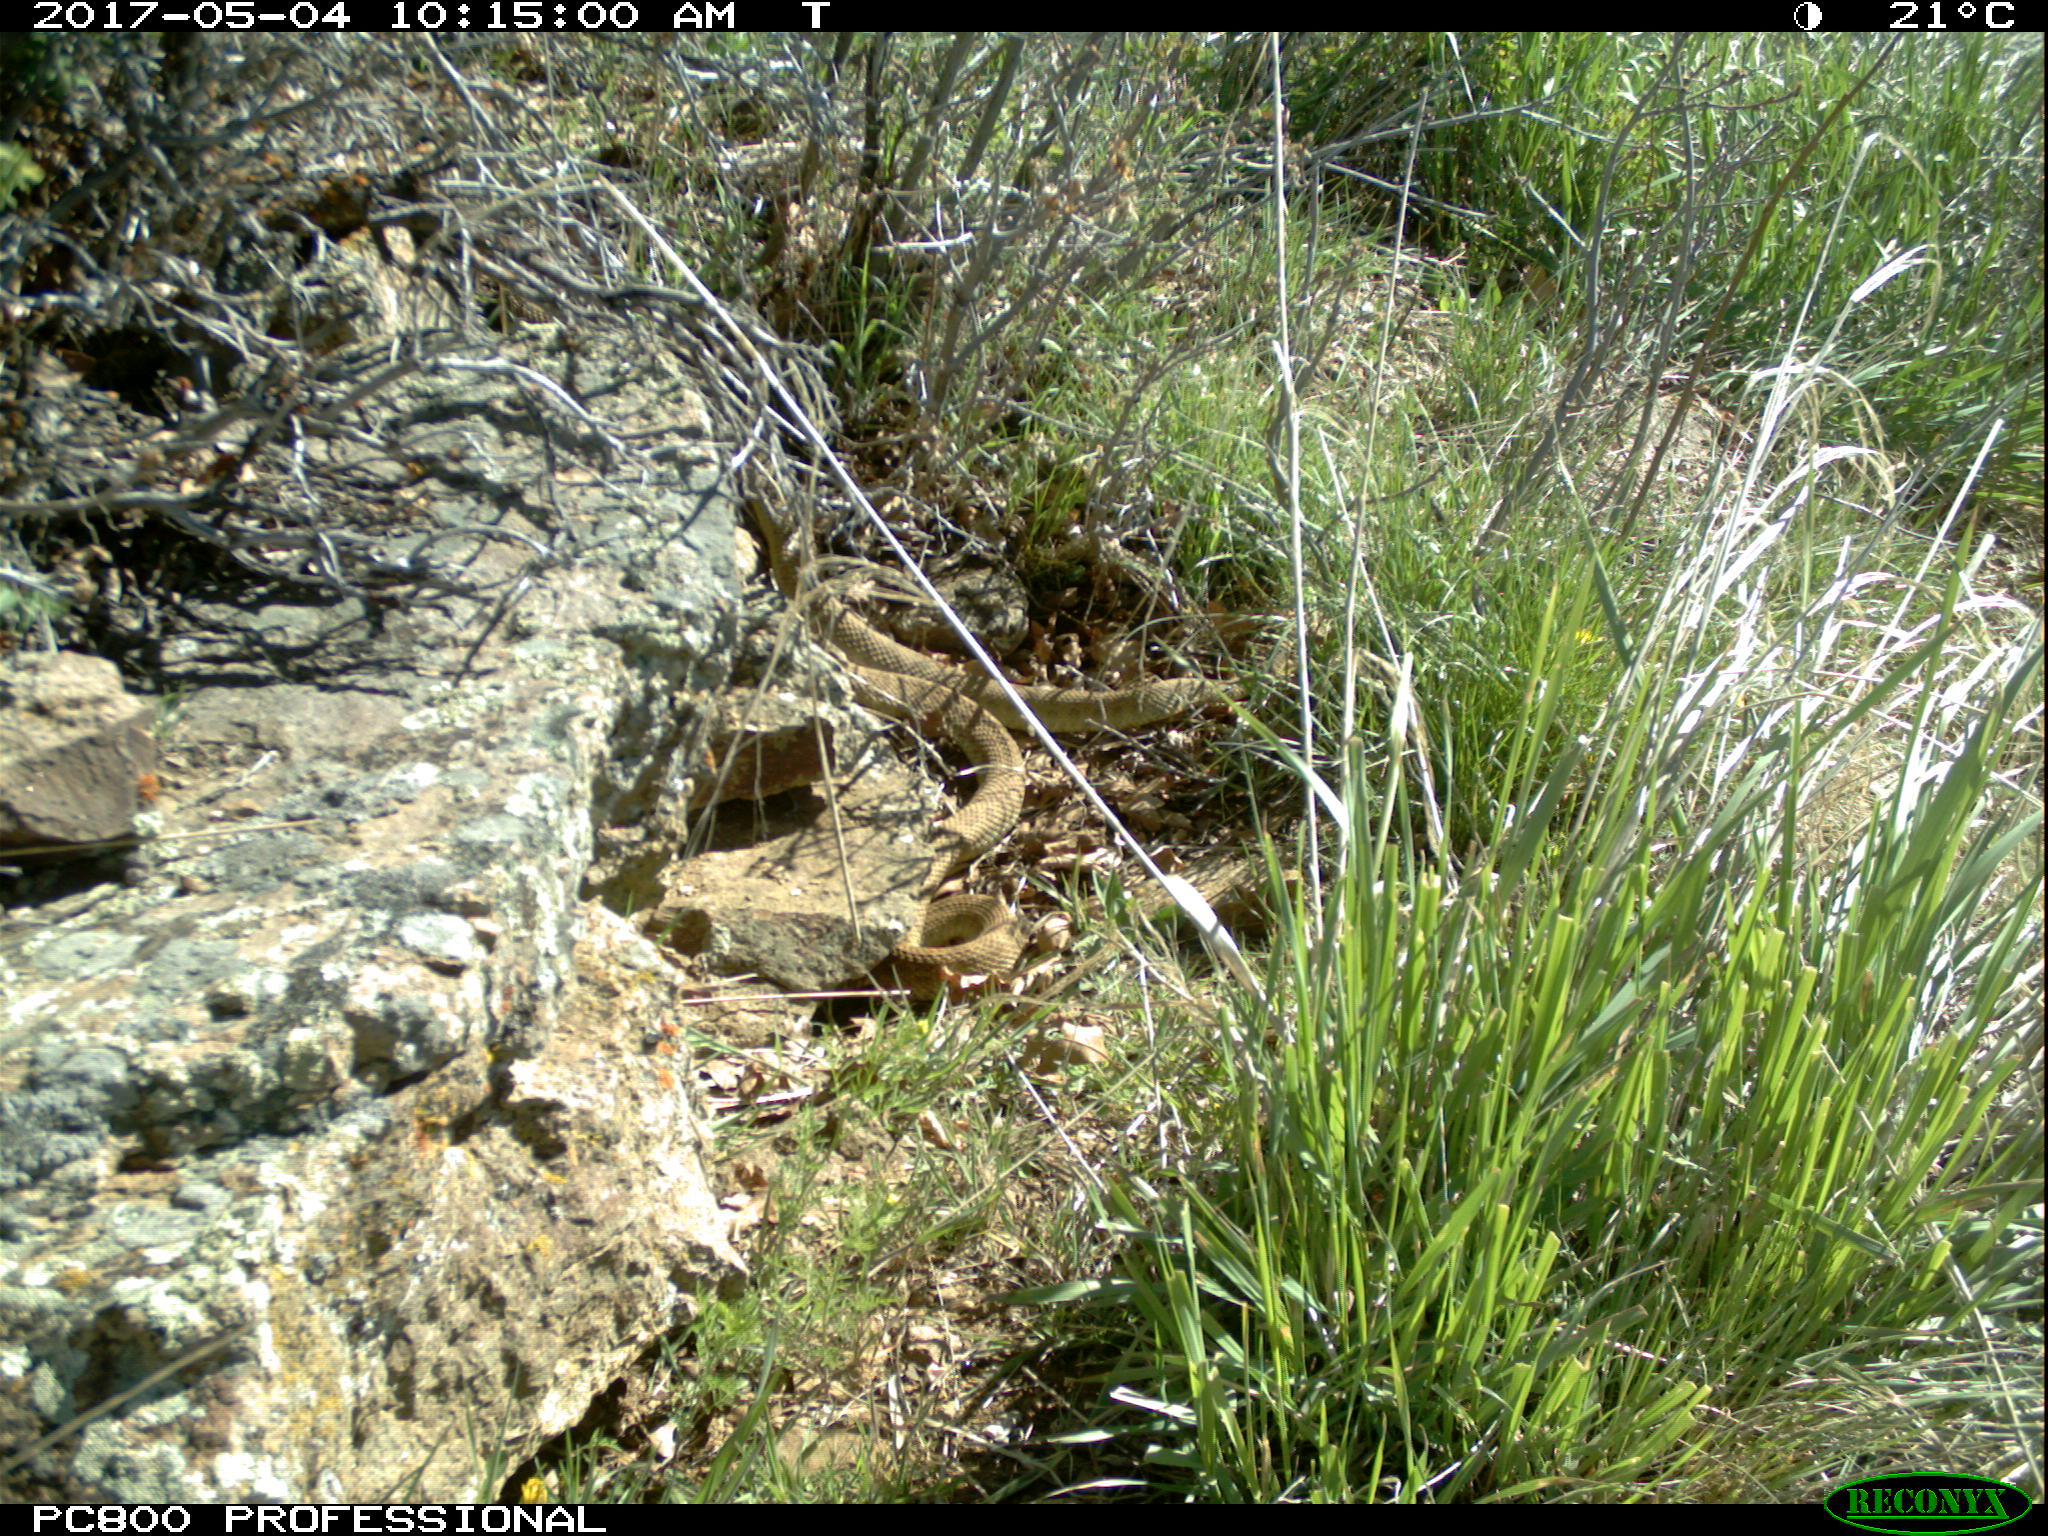snake: (768, 547, 1229, 728), (884, 729, 1024, 983)
